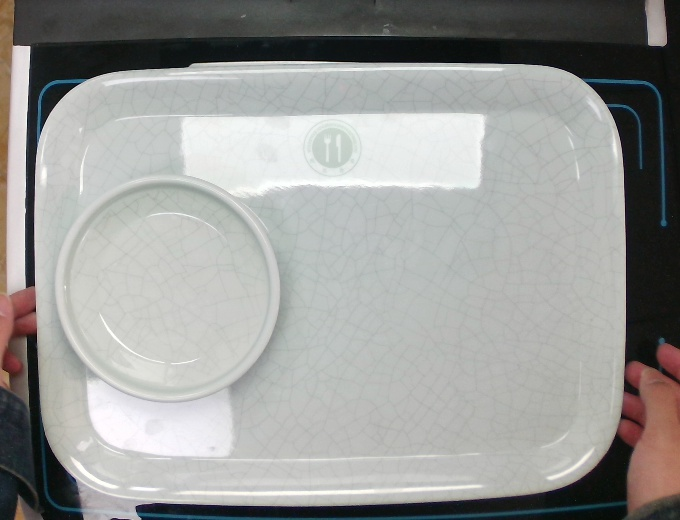JYsf-Xiao_Yuan_Pan: (50, 168, 288, 405)
